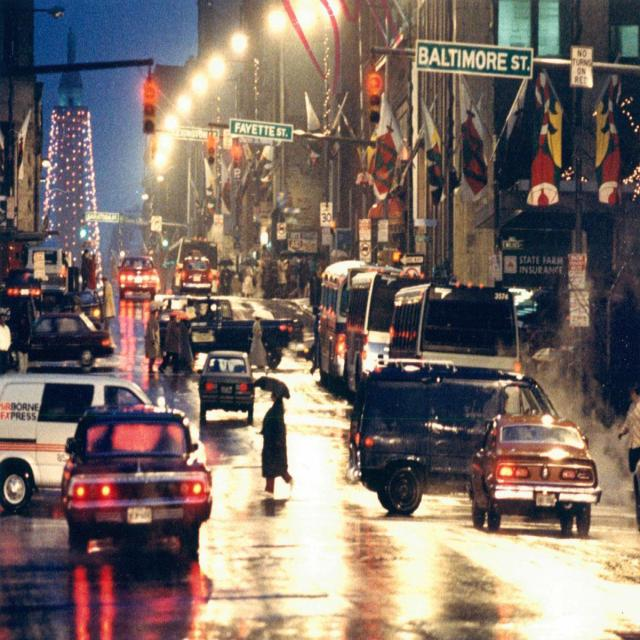other: (506, 78, 566, 209), (140, 76, 195, 175), (186, 40, 253, 98), (68, 477, 207, 501), (265, 8, 344, 42), (204, 126, 244, 176), (115, 274, 167, 290), (367, 66, 387, 107), (532, 412, 564, 437), (542, 447, 573, 468), (497, 463, 517, 483)
